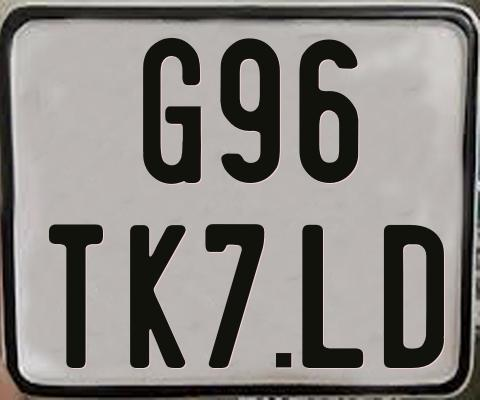6: (298, 36, 360, 182)
7: (205, 224, 266, 369)
9: (220, 38, 283, 186)
D: (381, 224, 445, 370)
G: (140, 38, 201, 187)
K: (127, 223, 186, 366)
L: (302, 222, 364, 367)
T: (47, 223, 102, 368)
